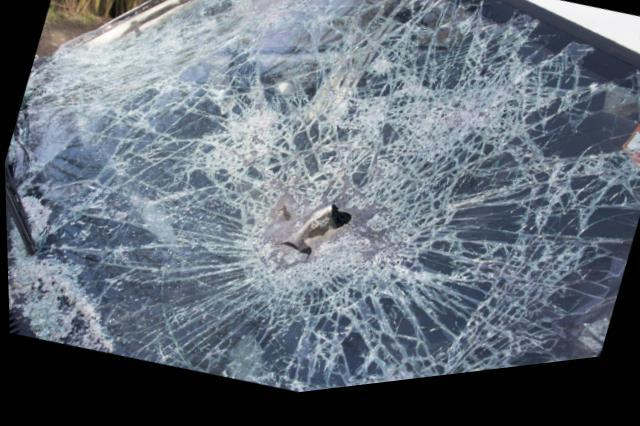glass shatter: (7, 0, 640, 399)
